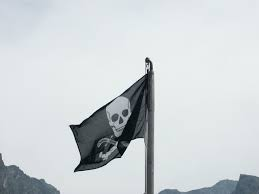Jolly Roger Flag: (68, 71, 152, 170)
